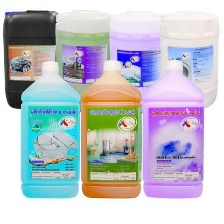cleaning_solution: (76, 58, 143, 201), (139, 59, 204, 201), (18, 58, 81, 200), (154, 6, 222, 110), (2, 7, 68, 111), (52, 9, 116, 114), (105, 7, 164, 111)
